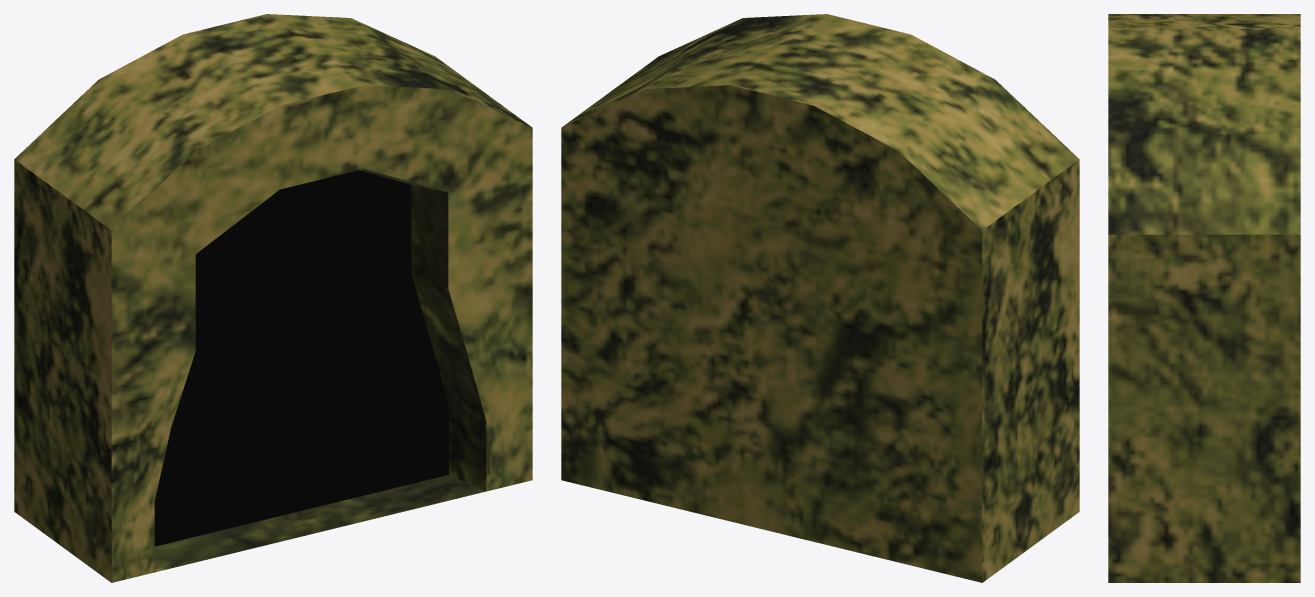
Rendered from cave.FBX.
3 views of the same model, side by side, from view 1: azimuth 30°, elevation 25°; view 2: azimuth 150°, elevation 25°; view 3: azimuth 270°, elevation 25° (orthographic).
Parts seen in each view (by area): view 1: Box001; view 2: Box001; view 3: Box001.
Part boxes in pixels (bbox=[...]): Box001: bbox=[14, 14, 532, 582]; Box001: bbox=[561, 14, 1079, 582]; Box001: bbox=[1108, 14, 1300, 582].
Bounding box in the file's own units: 25 × 24.74 × 10.
Materials: 1 (1 with a texture image).
